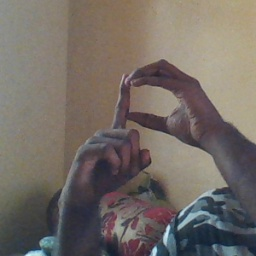P: (80, 58, 212, 175)
